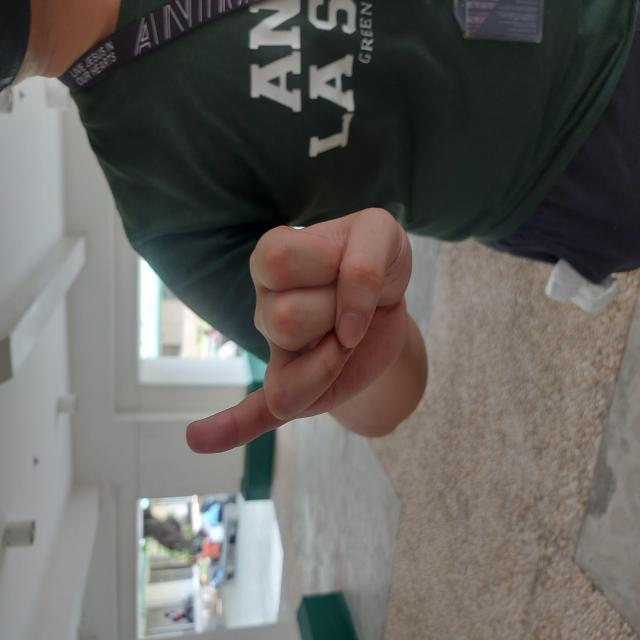I: (181, 184, 437, 415)
